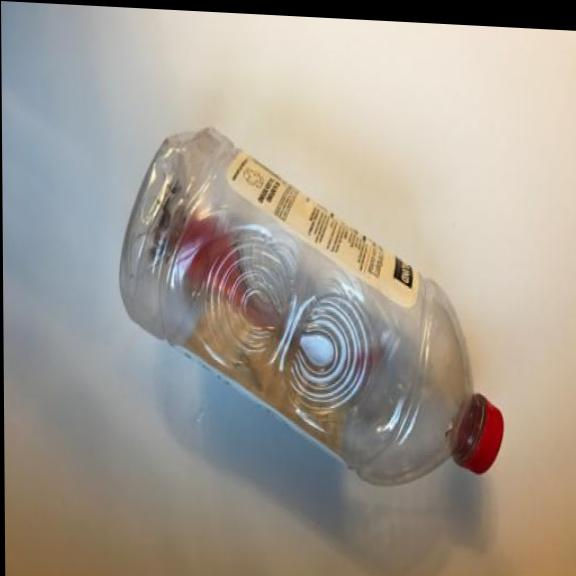Plastik: (116, 114, 508, 503)
